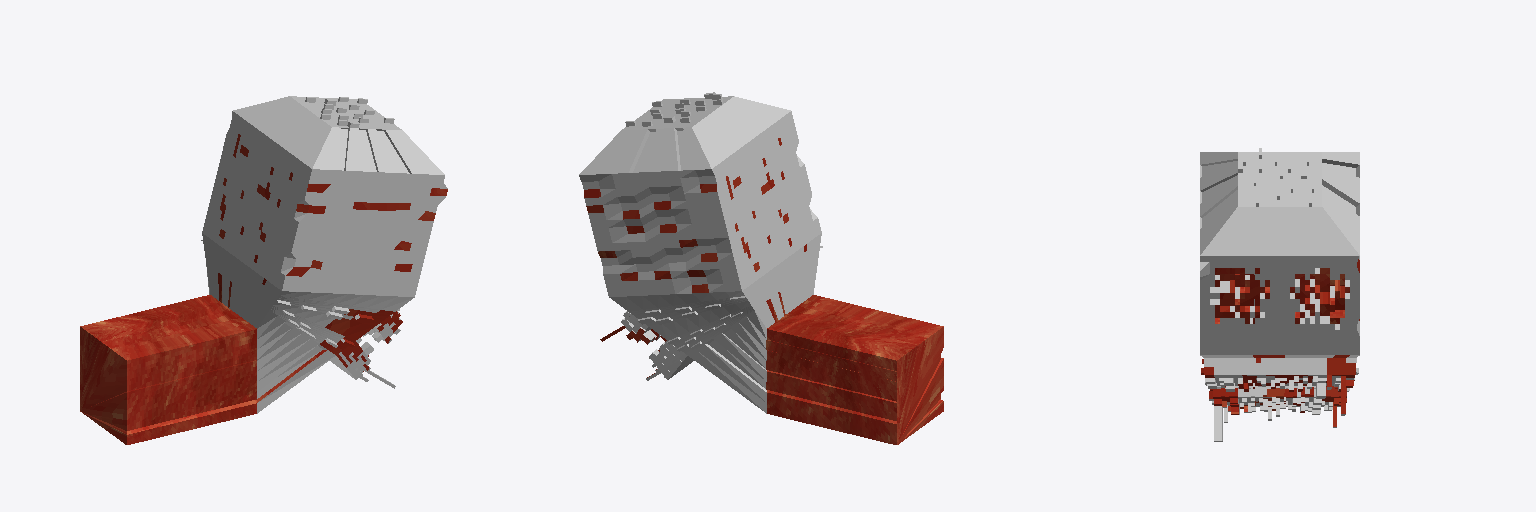
3 views of the same model, side by side, from view 1: azimuth 30°, elevation 25°; view 2: azimuth 150°, elevation 25°; view 3: azimuth 270°, elevation 25° (orthographic).
Parts seen in each view (by area): view 1: head_Cube.005; view 2: head_Cube.005; view 3: head_Cube.005.
Boxes of the visible parts, box(x1,y1,x2,y2) form: head_Cube.005: box(80, 96, 447, 444); head_Cube.005: box(579, 92, 943, 444); head_Cube.005: box(1200, 148, 1359, 441).
Bounding box in the file's own units: 2.36 × 2 × 1.07.
Materials: 4 (1 with a texture image).